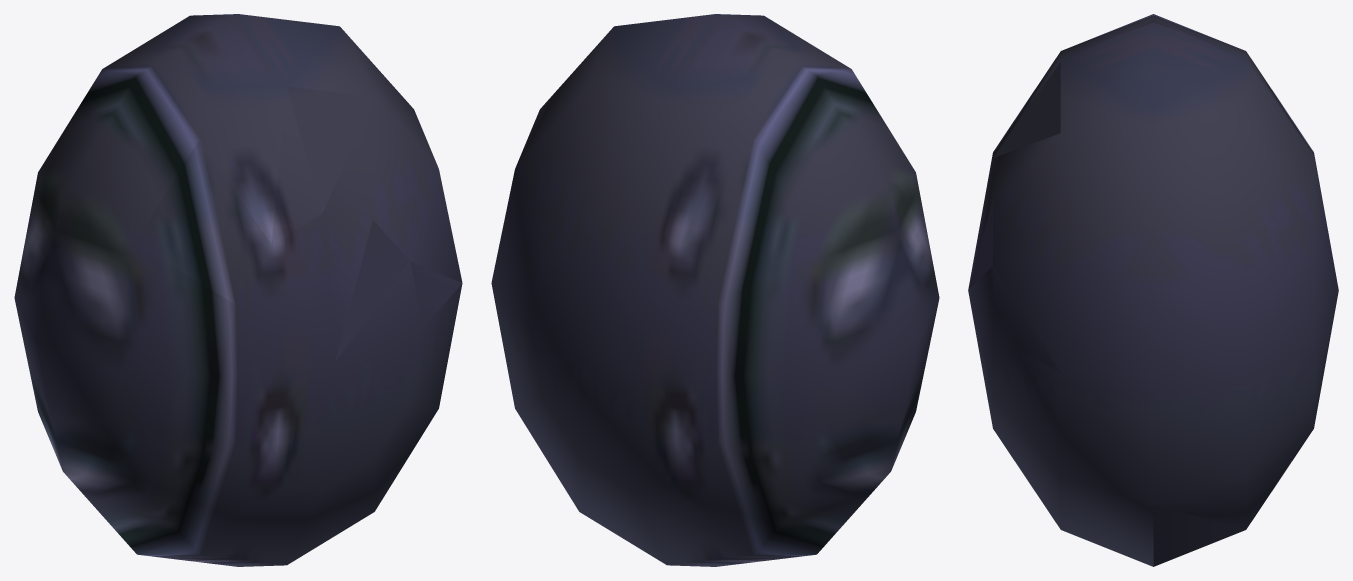
File: door_hand.FBX
3 views of the same model, side by side, from view 1: azimuth 30°, elevation 25°; view 2: azimuth 150°, elevation 25°; view 3: azimuth 270°, elevation 25° (orthographic). The views are drawn at different scales.
Visible parts, largest first — view 1: Mesh_0040; view 2: Mesh_0040; view 3: Mesh_0040.
Part boxes in pixels (left/top/right/bottom): Mesh_0040: left=14, top=14, right=462, bottom=566; Mesh_0040: left=491, top=14, right=939, bottom=566; Mesh_0040: left=968, top=14, right=1338, bottom=566.
Size of the model in its own units: 61.33 by 79.91 by 50.73.
